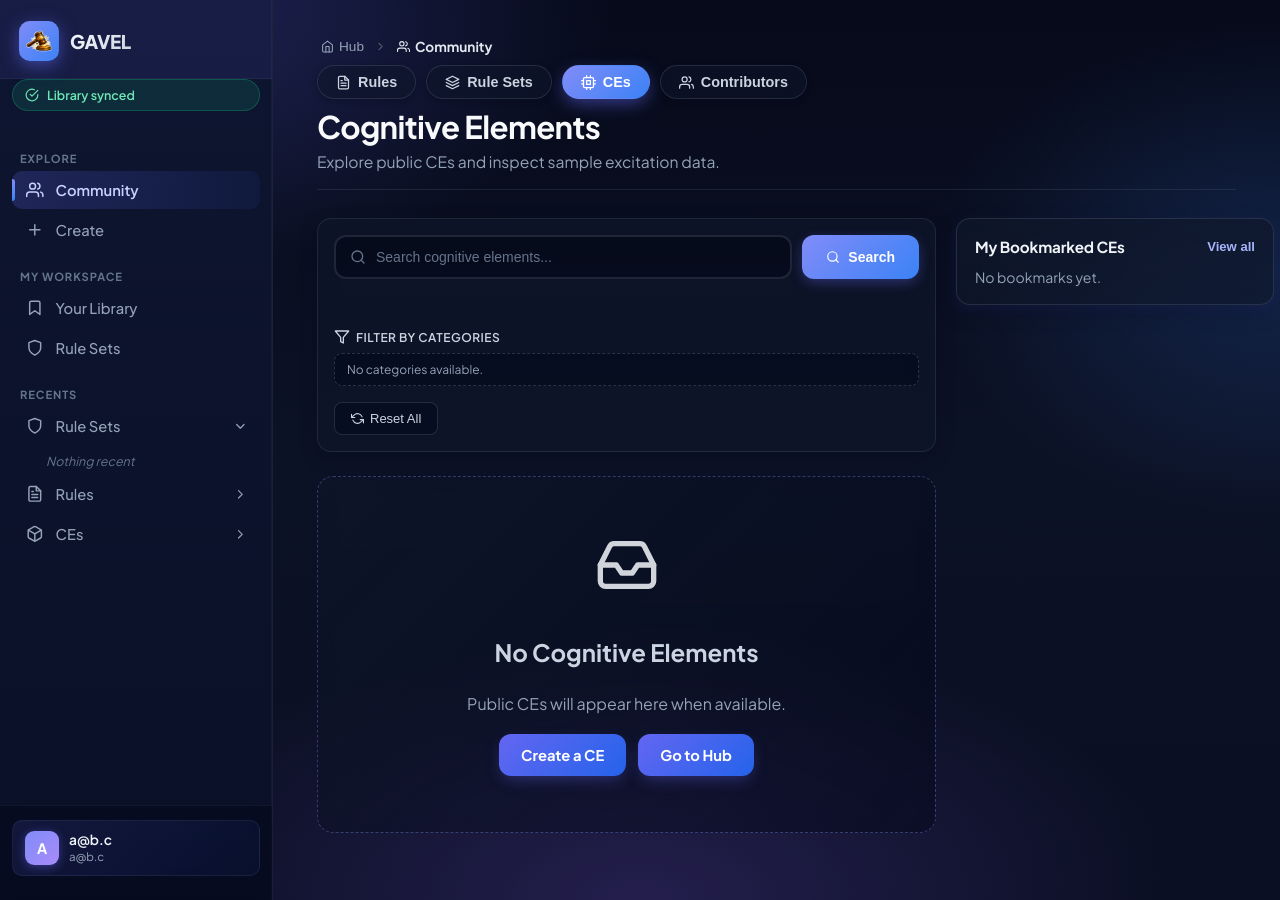
Test: BrowseCEs — live search › surfaces a search error banner when searchLibrary rejects
The image size is (1280, 900).
expect the heading "No Cognitive Elements" is shown: met, box 494,637 -> 759,667
Type "hello" into the field with placeholder "Search cognitive elements..." at (571, 257), box 366,237 -> 776,277
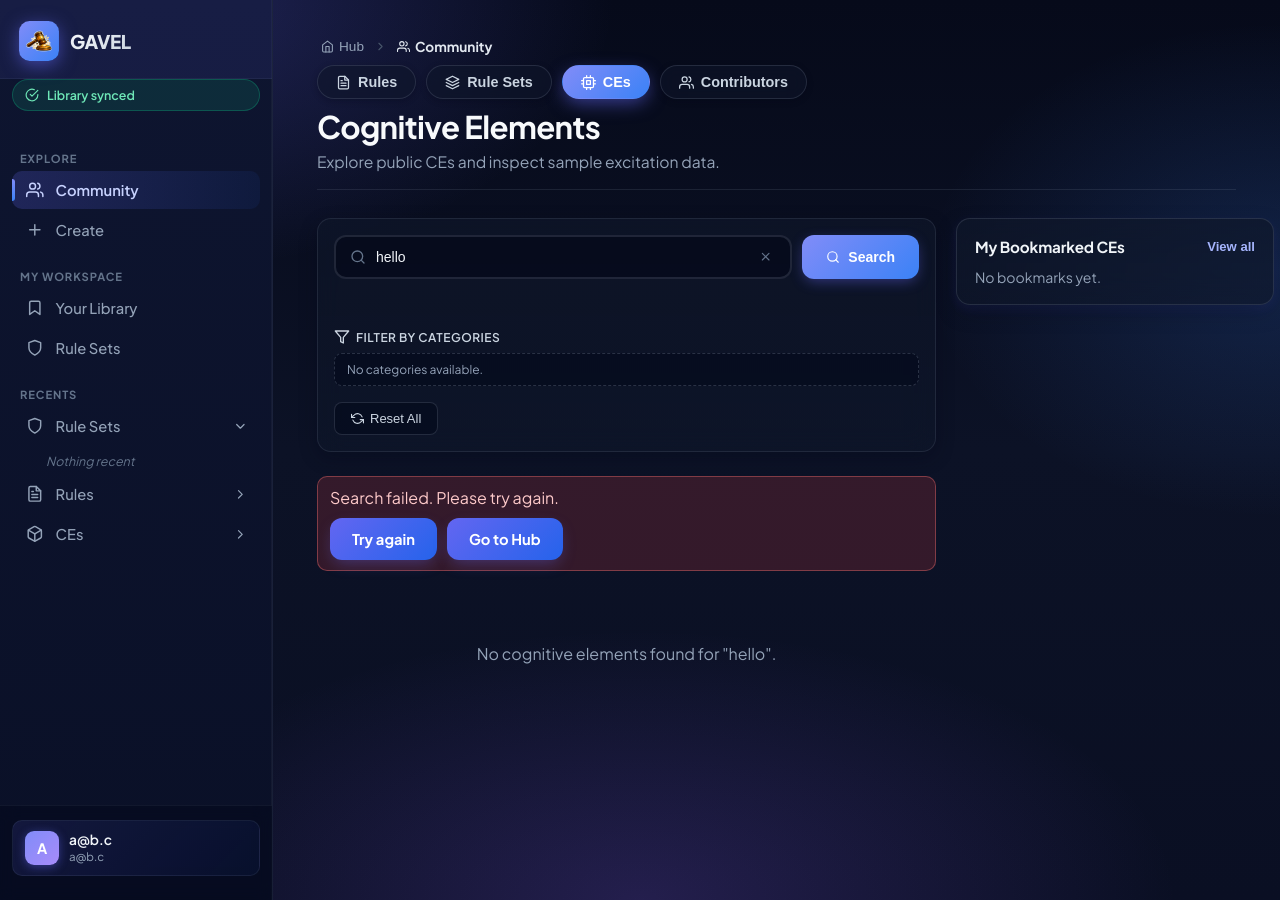
expect the text "Search failed. Please try again." is shown: met, box 330,487 -> 559,508
